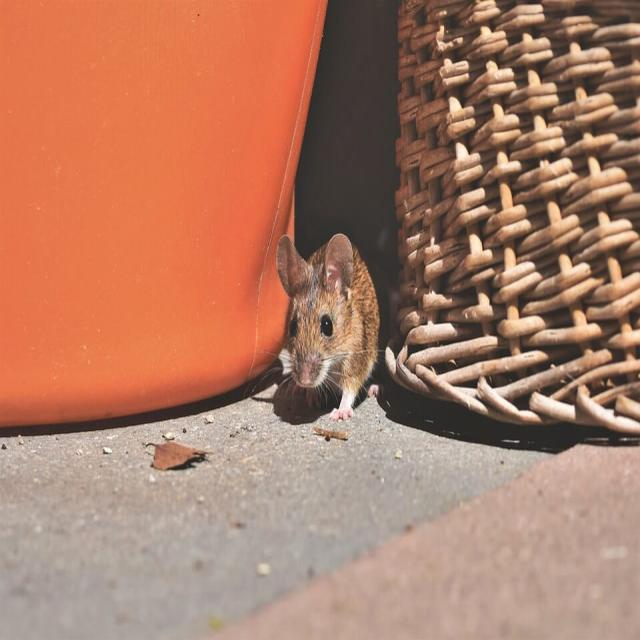rat: (267, 216, 390, 452)
